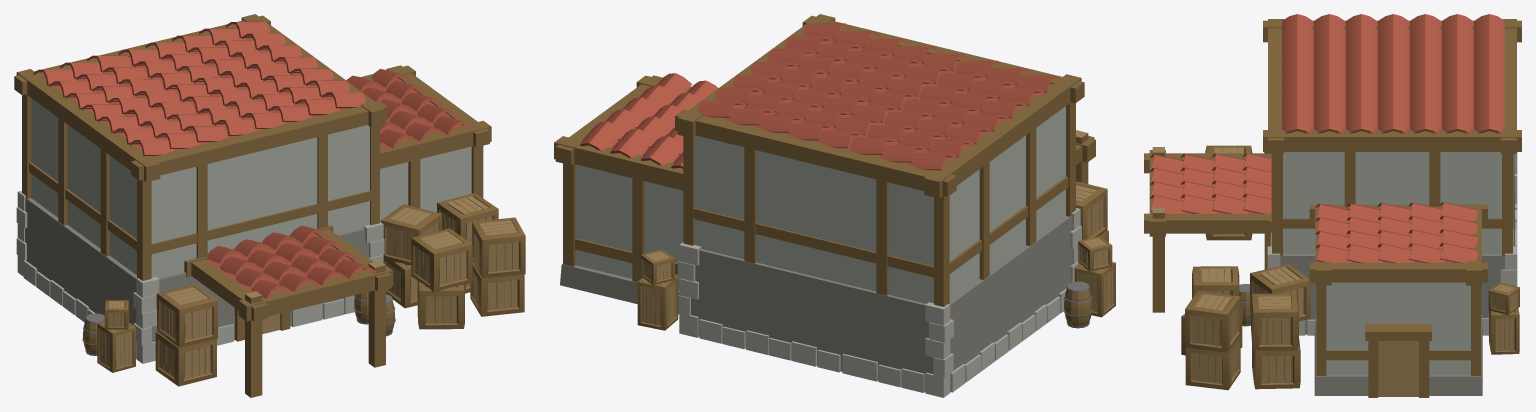
File: business-building.glb
The picture shows the model from 3 angles, left to right: view 1: azimuth 30°, elevation 25°; view 2: azimuth 150°, elevation 25°; view 3: azimuth 270°, elevation 25°; orthographic projection. The views are drawn at different scales.
Visible parts, largest first — view 1: Storage_SecondAge_Level3; view 2: Storage_SecondAge_Level3; view 3: Storage_SecondAge_Level3.
Part boxes in pixels (x1,y1,x2,y2): Storage_SecondAge_Level3: (14, 14, 525, 397); Storage_SecondAge_Level3: (554, 14, 1115, 397); Storage_SecondAge_Level3: (1144, 14, 1521, 397).
Bounding box in the file's own units: 1.81 × 0.899 × 1.43.
1 material, 1 textured.
